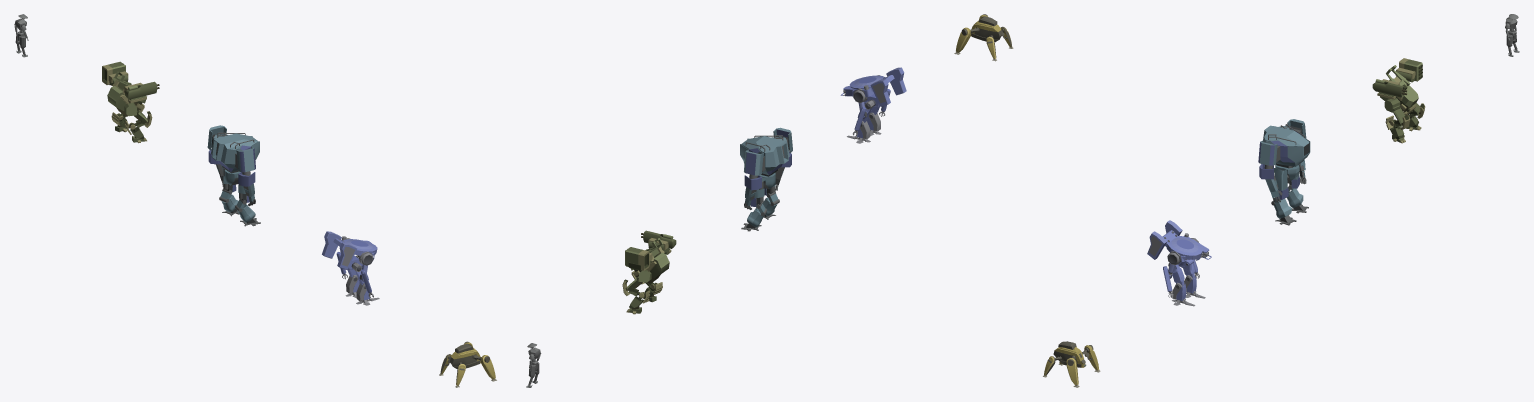
The model's file is Hw_05_Coloring_XYZ.fbx.
The picture shows the model from 3 angles, left to right: view 1: azimuth 30°, elevation 25°; view 2: azimuth 150°, elevation 25°; view 3: azimuth 330°, elevation 25°; orthographic projection. The views are drawn at different scales.
Parts seen in each view (by area): view 1: polySurface489, polySurface171, polySurface578; view 2: polySurface489, polySurface171, polySurface637, polySurface563; view 3: polySurface489, polySurface171, polySurface242, polySurface490, polySurface578.
Part boxes in pixels (x1,y1,x2,y2): polySurface489: [211, 133, 258, 172]; polySurface171: [439, 341, 496, 387]; polySurface578: [236, 147, 255, 172]; polySurface489: [741, 136, 789, 175]; polySurface171: [954, 14, 1013, 61]; polySurface637: [625, 247, 649, 270]; polySurface563: [744, 149, 763, 175]; polySurface489: [1263, 125, 1309, 166]; polySurface171: [1043, 345, 1100, 387]; polySurface242: [1166, 236, 1202, 259]; polySurface490: [1266, 126, 1310, 162]; polySurface578: [1258, 140, 1277, 165].
Bounding box in the file's own units: 5.41 × 8.18 × 82.64.
